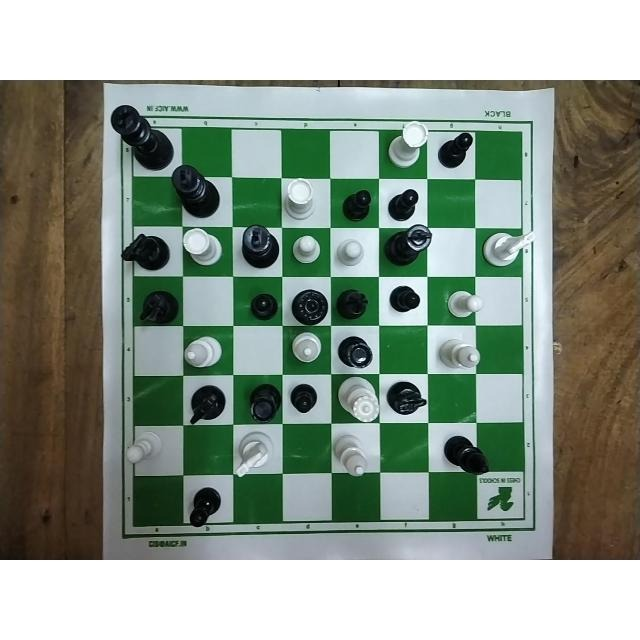black-bishop: (429, 422, 479, 471), (331, 278, 377, 326)
black-king: (111, 106, 169, 178), (175, 166, 231, 226), (233, 227, 283, 277), (380, 225, 430, 275)
black-knight: (120, 232, 180, 276), (185, 376, 233, 425), (133, 286, 180, 326), (383, 377, 425, 421)
black-pawn: (184, 474, 231, 525), (283, 376, 330, 422), (383, 279, 427, 325), (235, 282, 281, 325), (331, 179, 376, 221), (432, 133, 474, 177), (381, 180, 425, 220)
black-queen: (287, 278, 329, 326)
black-rook: (237, 376, 281, 424), (333, 329, 377, 373)
white-bishop: (331, 427, 378, 479), (432, 325, 479, 372), (183, 329, 231, 373), (285, 329, 330, 370)
white-knight: (476, 229, 534, 275), (234, 430, 282, 478)
white-pawn: (126, 427, 181, 475), (331, 229, 374, 275), (436, 279, 482, 320), (288, 228, 328, 274)
white-queen: (335, 378, 379, 422)
white-rook: (381, 121, 427, 174), (184, 229, 228, 273), (283, 178, 326, 223)
